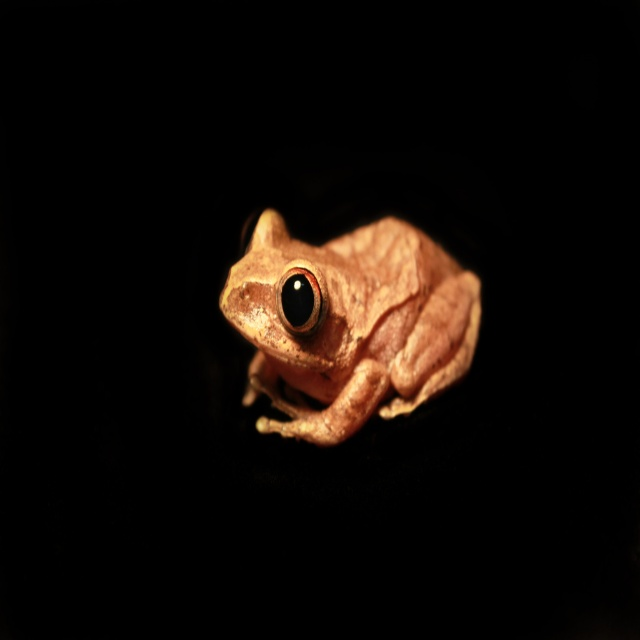Frog: (219, 210, 484, 448)
